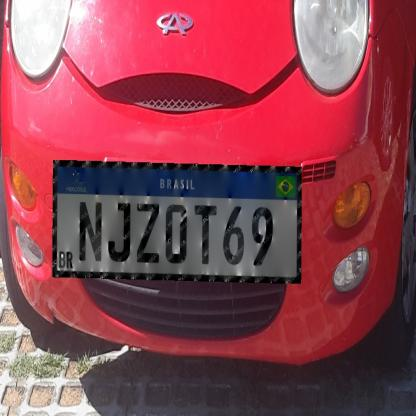PlacaM: (52, 160, 302, 284)
